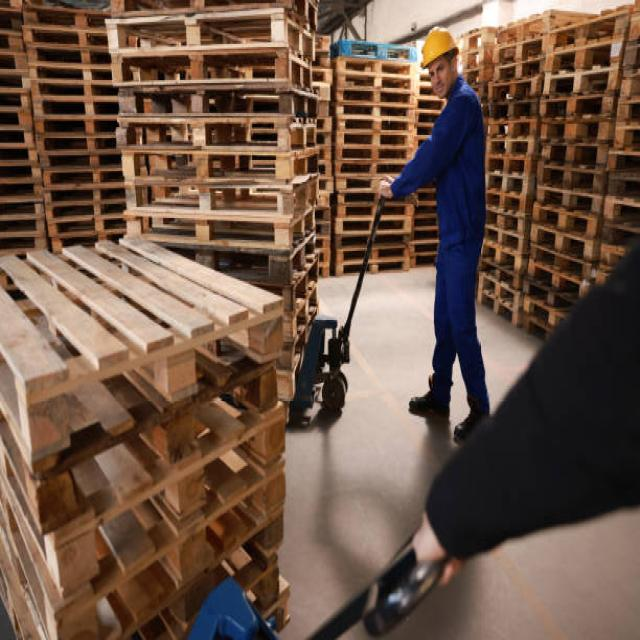Wooden-Pallets: (0, 235, 293, 468), (0, 362, 286, 542), (47, 406, 300, 607), (108, 114, 298, 157), (108, 52, 305, 92), (114, 177, 295, 218), (106, 87, 304, 124), (102, 13, 290, 51), (111, 154, 296, 190), (118, 218, 294, 250), (332, 81, 421, 117), (535, 63, 619, 101), (528, 177, 603, 217), (529, 220, 601, 258), (489, 26, 550, 68), (539, 113, 617, 144), (332, 54, 421, 80), (487, 73, 539, 110)
